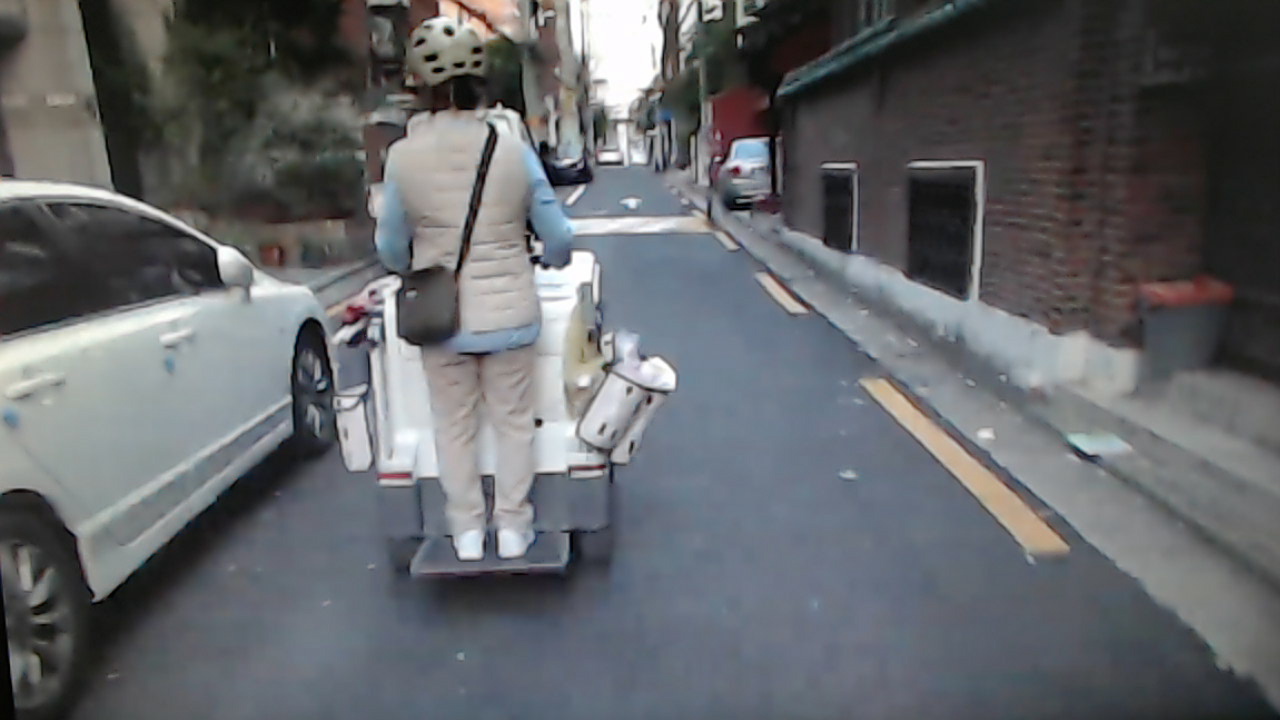Yakurut: (361, 16, 602, 570)
